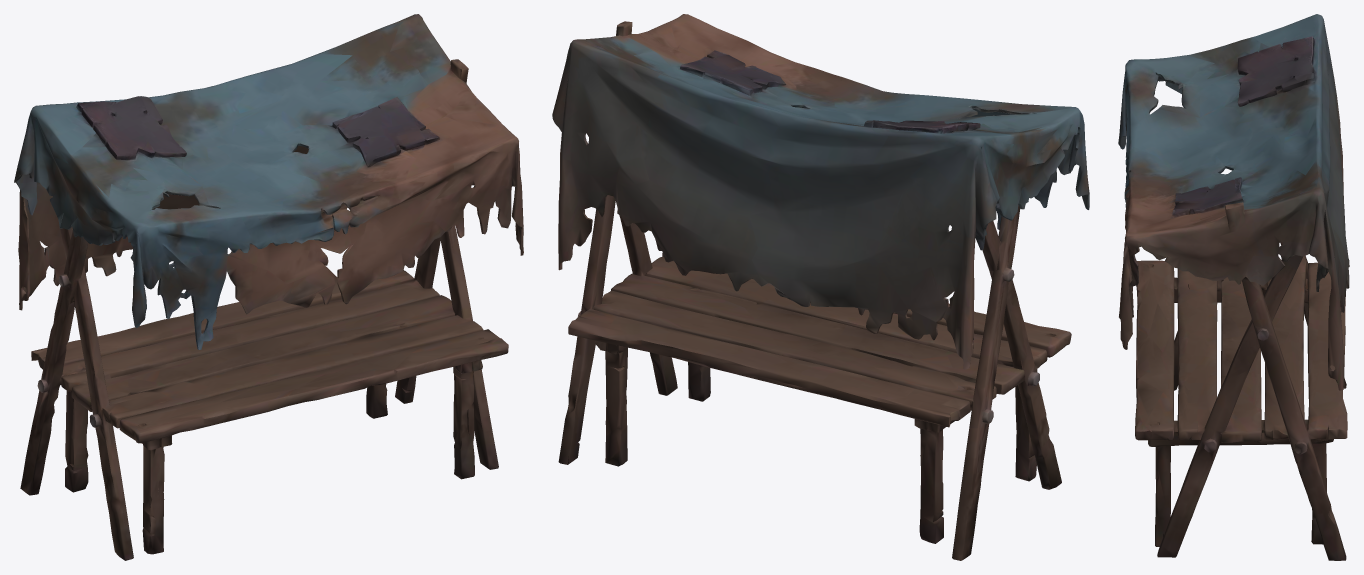
File: market_stall_b_idle.glb
3 views of the same model, side by side, from view 1: azimuth 30°, elevation 25°; view 2: azimuth 150°, elevation 25°; view 3: azimuth 270°, elevation 25° (orthographic). The views are drawn at different scales.
Visible parts, largest first — view 1: tripo_node_fdd90319-114a-4598-bb14-9fcf122bc3b2; view 2: tripo_node_fdd90319-114a-4598-bb14-9fcf122bc3b2; view 3: tripo_node_fdd90319-114a-4598-bb14-9fcf122bc3b2.
Boxes of the visible parts, bbox=[...] form: tripo_node_fdd90319-114a-4598-bb14-9fcf122bc3b2: bbox=[14, 14, 523, 560]; tripo_node_fdd90319-114a-4598-bb14-9fcf122bc3b2: bbox=[552, 14, 1089, 560]; tripo_node_fdd90319-114a-4598-bb14-9fcf122bc3b2: bbox=[1118, 14, 1349, 560].
Bounding box in the file's own units: 2.57 × 2.3 × 1.3.
Materials: 1 (1 with a texture image).
